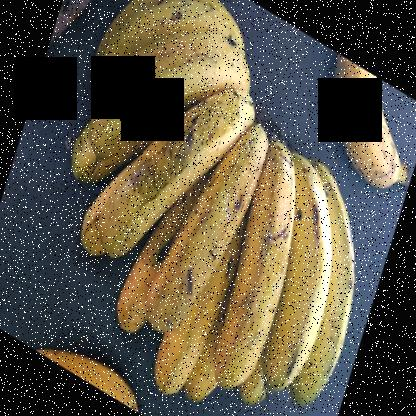ripe: (137, 110, 282, 340), (85, 94, 266, 275), (210, 143, 302, 394), (85, 48, 255, 159), (292, 148, 359, 411), (270, 140, 330, 392), (85, 1, 252, 81), (337, 16, 408, 190)
